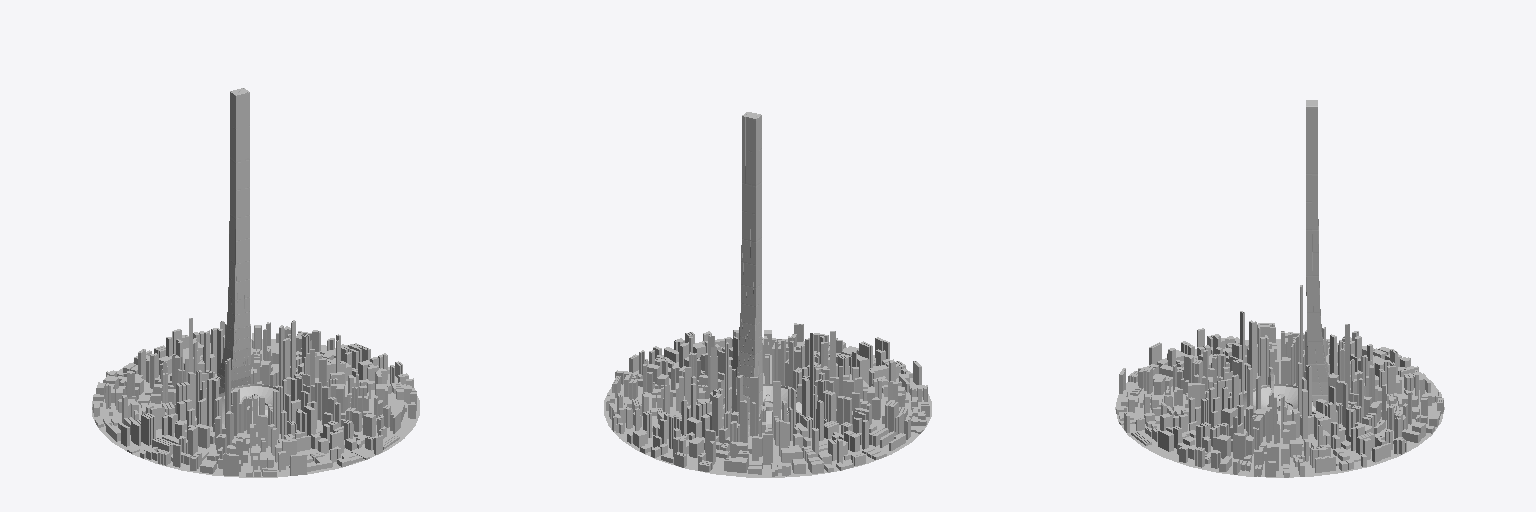
Rendered from world_2016-01-04.obj.
3 renders of one model, left to right at view 1: azimuth 30°, elevation 25°; view 2: azimuth 150°, elevation 25°; view 3: azimuth 270°, elevation 25°, orthographic.
Visible parts, largest first — view 1: TOWER, Tower_glow, city_grid15, city_grid09, city_grid11, city_grid13, city_grid155; view 2: TOWER, city_grid29, city_grid35, city_grid00, city_grid39; view 3: TOWER, city_grid26, city_grid24, city_grid135, city_grid28, Audience, city_grid150, city_grid29.
Boxes of the visible parts, x1,y1,x2,y2 form: TOWER: [217, 88, 251, 393]; Tower_glow: [237, 94, 244, 386]; city_grid15: [276, 451, 307, 476]; city_grid09: [114, 421, 148, 453]; city_grid11: [156, 444, 191, 470]; city_grid13: [213, 454, 246, 477]; city_grid155: [279, 325, 296, 385]; TOWER: [722, 112, 762, 436]; city_grid29: [609, 407, 639, 438]; city_grid35: [751, 434, 776, 467]; city_grid00: [660, 437, 696, 468]; city_grid39: [844, 420, 872, 453]; TOWER: [1306, 100, 1329, 407]; city_grid26: [1308, 448, 1342, 476]; city_grid24: [1248, 445, 1279, 477]; city_grid135: [1291, 285, 1302, 385]; city_grid28: [1363, 438, 1395, 465]; Audience: [1253, 386, 1297, 408]; city_grid150: [1244, 368, 1260, 435]; city_grid29: [1385, 417, 1415, 457].
Bounding box in the file's own units: 10000 × 10202 × 10000.